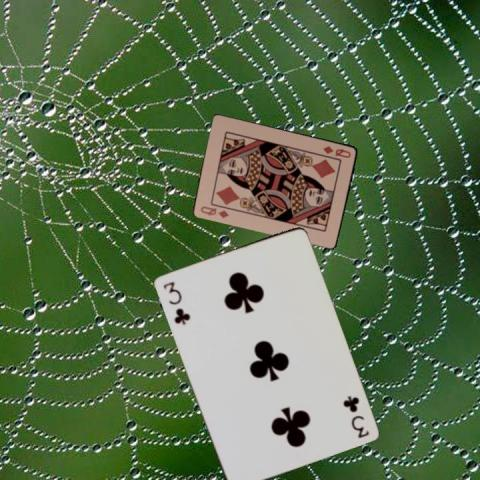3c: (160, 279, 191, 326), (341, 392, 370, 439)
Qd: (320, 143, 353, 159), (198, 204, 231, 220)
